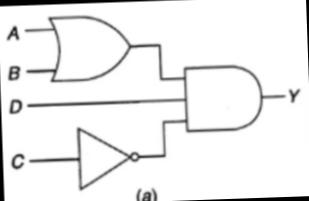and: (179, 59, 266, 137)
not: (71, 121, 144, 193)
or: (44, 10, 136, 84)
